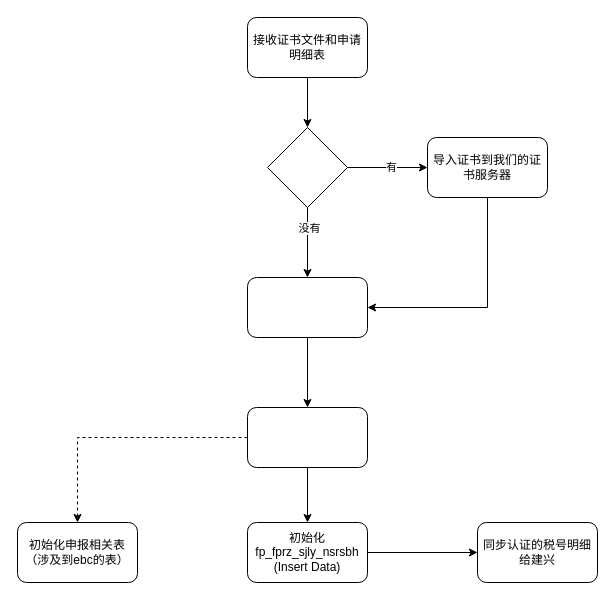
Image size: 615x600. Some labels were removed from this diagram. Here are the shapes that lost their labels. From the top down, the centre of each, then its label:
At (x=307, y=167): "是否有证书文件".
At (x=307, y=307): "初始化agg_org (Replace Data)".
At (x=307, y=437): "初始化agg_org_tax_login (Replace Data)".
